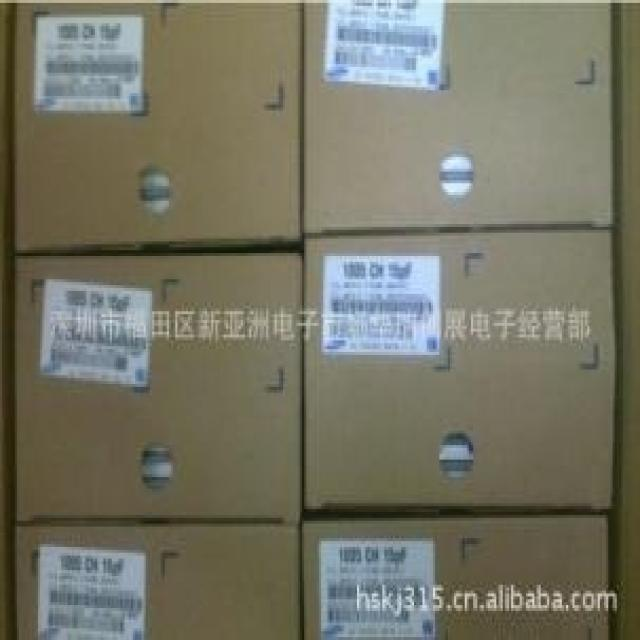box: (301, 230, 614, 510), (12, 253, 302, 524), (6, 4, 304, 257), (304, 4, 614, 236), (302, 517, 609, 637), (18, 522, 300, 637)
